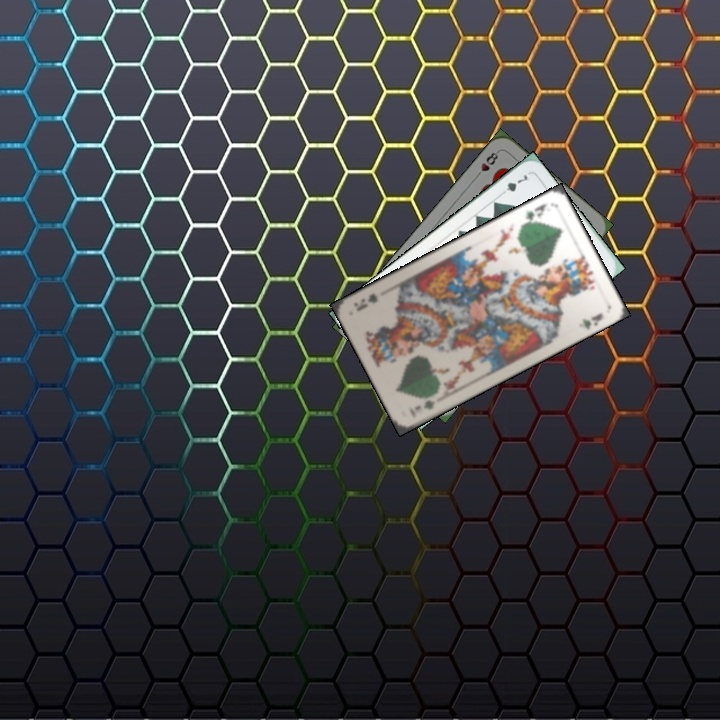G7: (495, 170, 530, 199)
GK: (519, 199, 549, 228), (410, 396, 437, 413)
H8: (471, 147, 502, 181)
